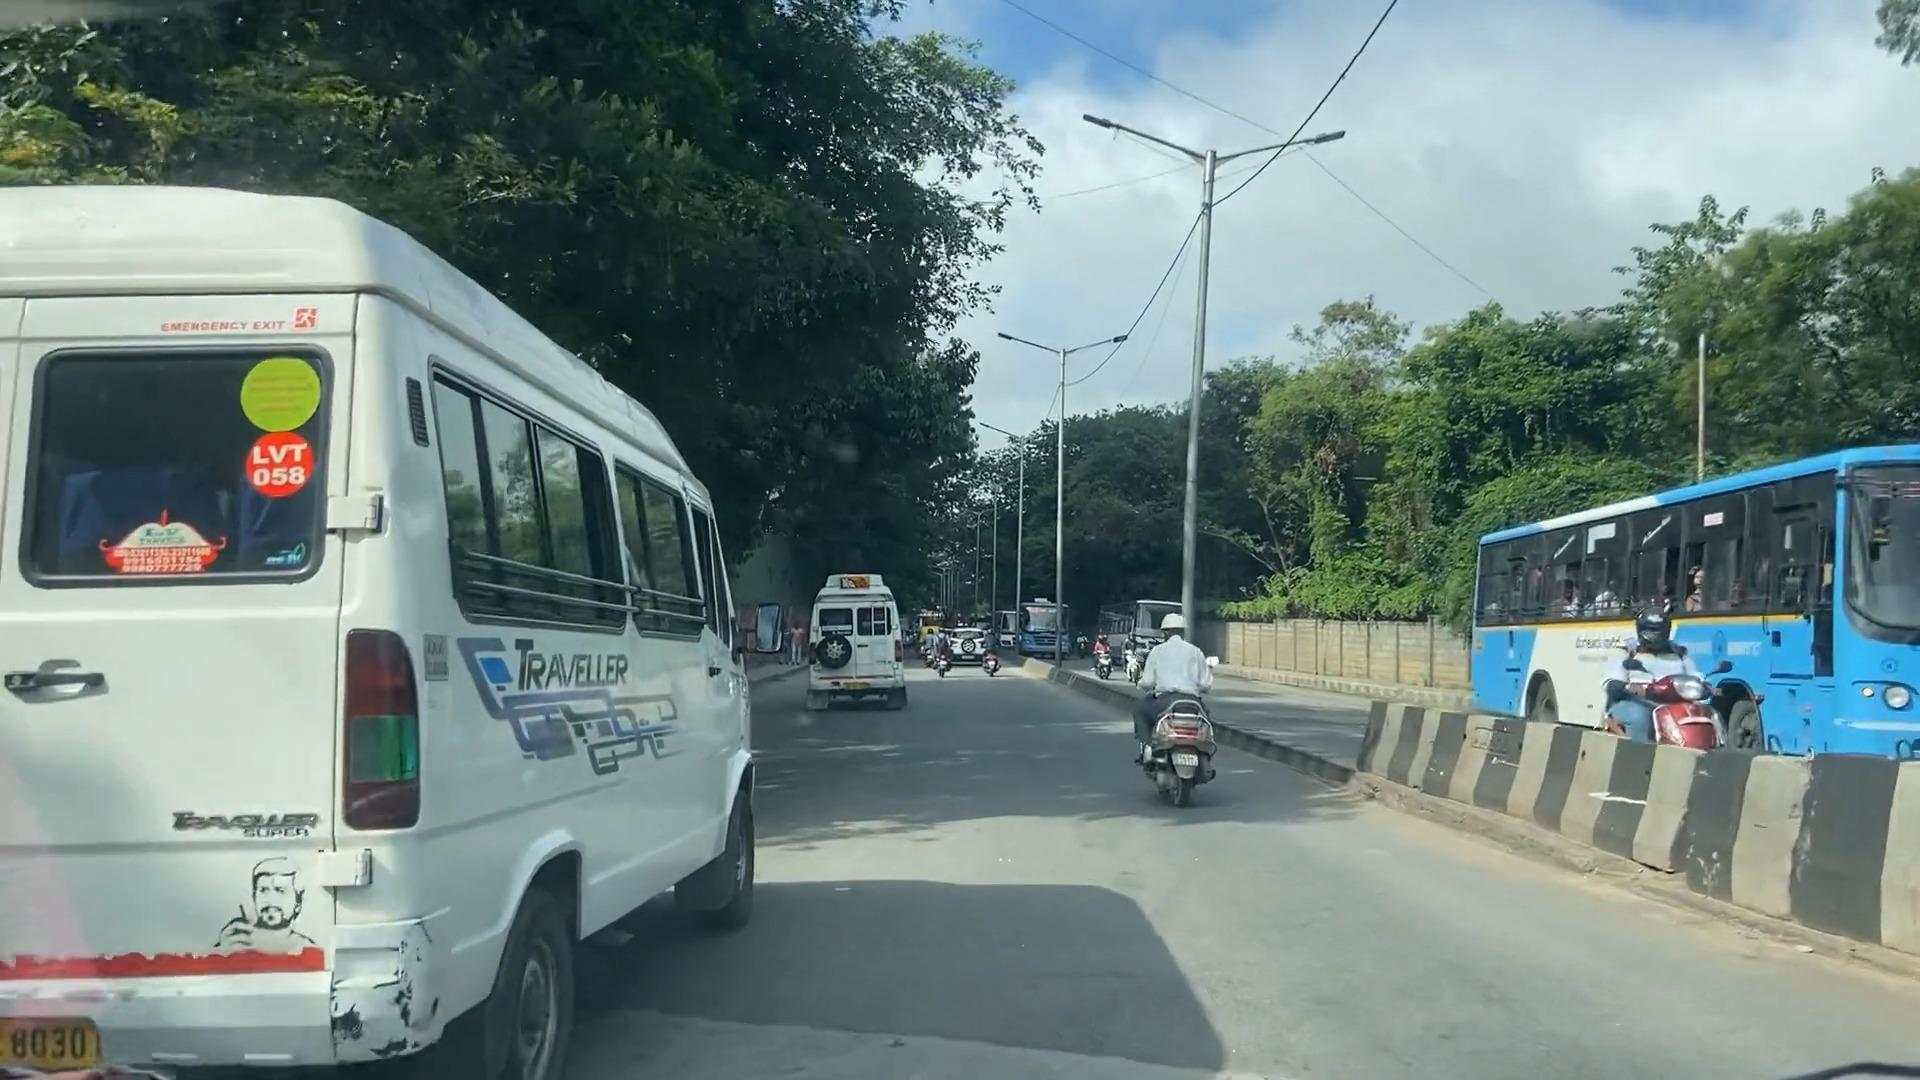HMV: (16, 189, 749, 1080), (789, 568, 915, 720)
LMV: (1135, 613, 1233, 812)
